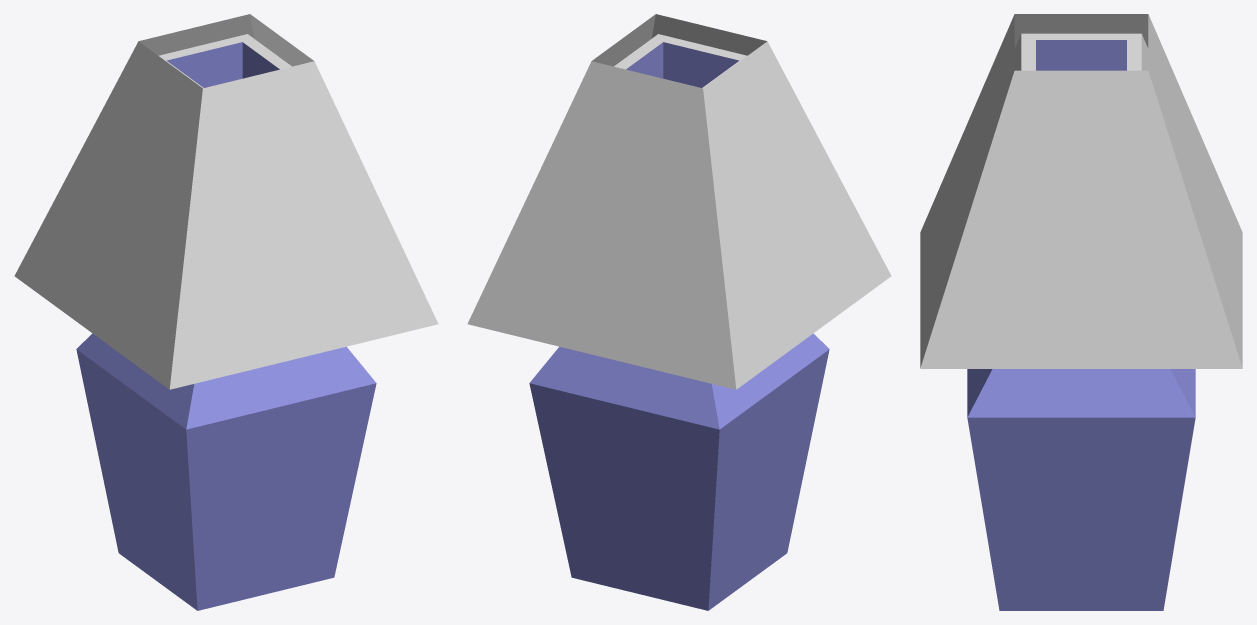
Rendered from Lampu.fbx.
3 renders of one model, left to right at view 1: azimuth 30°, elevation 25°; view 2: azimuth 150°, elevation 25°; view 3: azimuth 270°, elevation 25°, orthographic. The views are drawn at different scales.
Parts seen in each view (by area): view 1: Cube.004; view 2: Cube.004; view 3: Cube.004.
Part boxes in pixels (bbox=[...]): Cube.004: bbox=[14, 14, 438, 610]; Cube.004: bbox=[467, 14, 891, 610]; Cube.004: bbox=[920, 14, 1242, 610].
Size of the model in its own units: 28.26 by 51.63 by 28.26.
